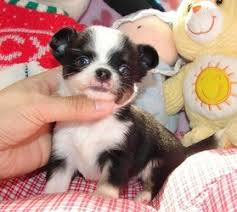chihuahua: (35, 19, 215, 191)
